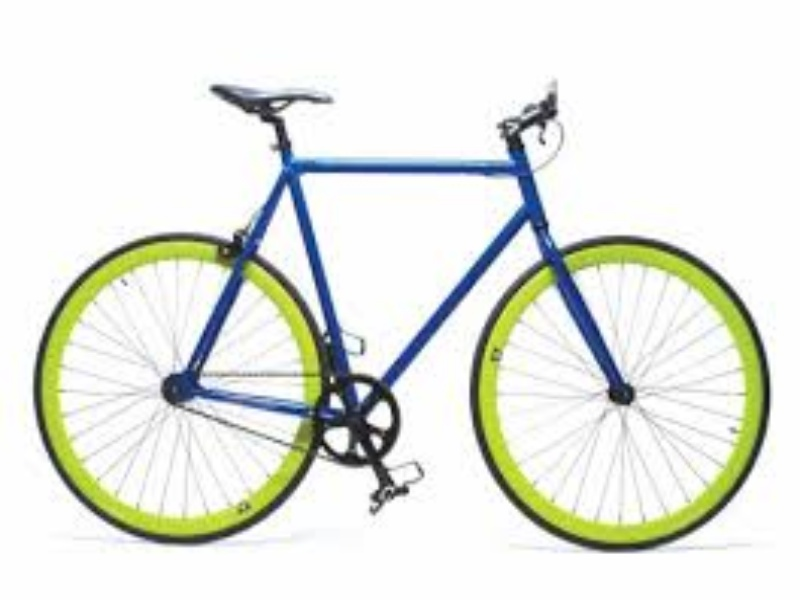bicycle: (28, 69, 785, 568)
